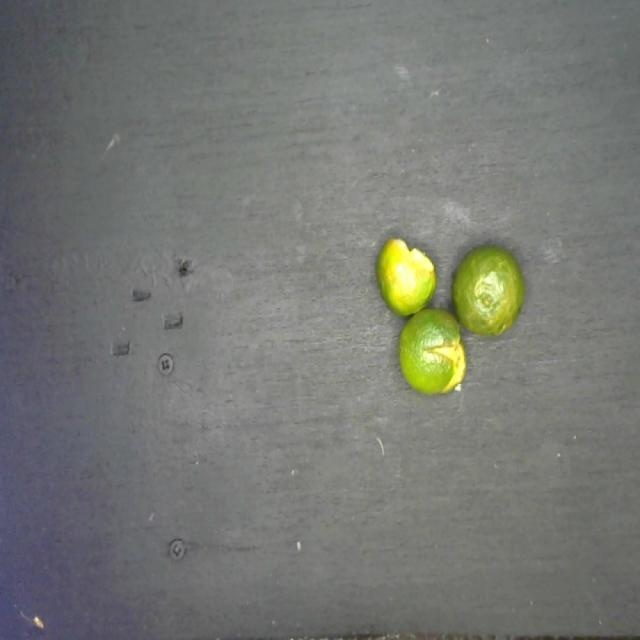biodegradable: (369, 224, 532, 406)
